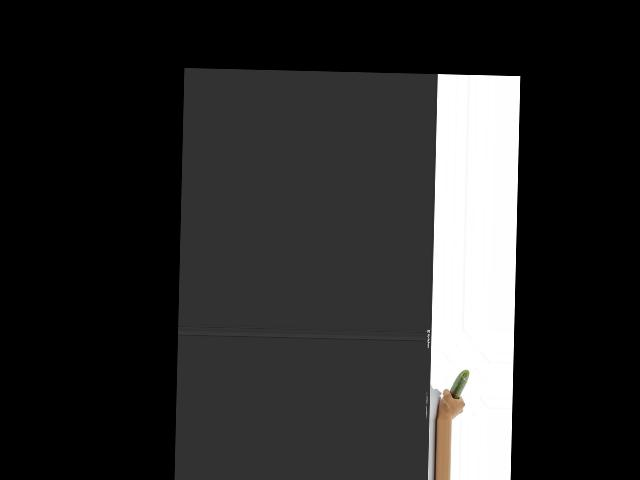cucumber: (449, 369, 469, 399)
